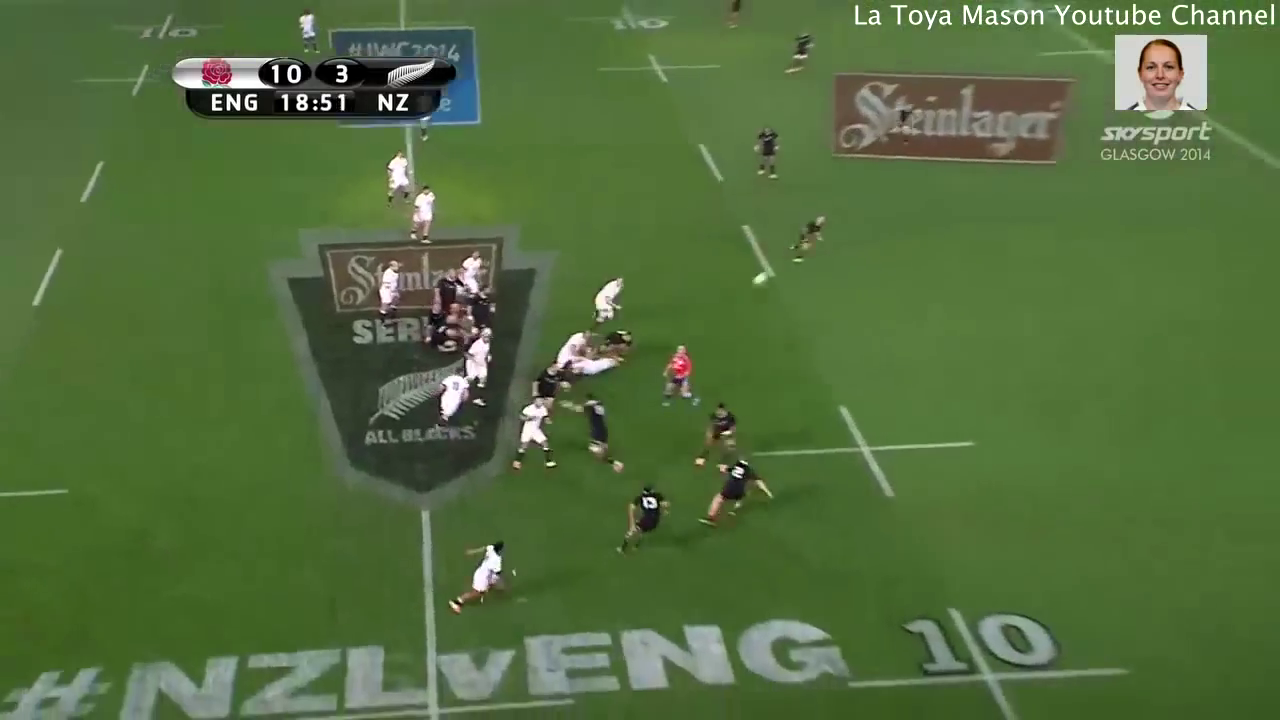10_metre: (837, 604, 1140, 720), (736, 398, 994, 502), (593, 47, 731, 93), (109, 4, 233, 45), (563, 1, 696, 36), (73, 60, 179, 102)
ball: (747, 265, 778, 297)
player: (444, 535, 518, 622), (705, 450, 767, 517), (620, 476, 667, 554), (571, 392, 619, 466), (656, 341, 700, 407), (430, 361, 465, 439), (404, 181, 443, 250), (518, 395, 554, 469), (789, 209, 831, 270), (747, 124, 787, 183), (378, 144, 414, 206), (699, 399, 744, 446), (464, 333, 493, 404), (371, 259, 404, 321), (590, 272, 627, 324), (783, 26, 818, 80), (547, 356, 625, 379), (887, 99, 922, 144), (716, 1, 750, 39), (426, 269, 462, 302), (538, 358, 570, 395), (558, 331, 594, 358), (470, 283, 493, 325), (458, 245, 479, 288), (602, 327, 633, 355)
ruck: (540, 317, 639, 381)
